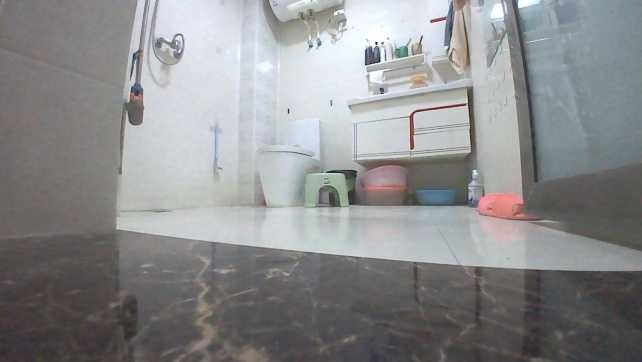plastic_stool: (304, 171, 350, 207)
toilet: (253, 117, 322, 207)
washstand: (346, 80, 480, 164)
